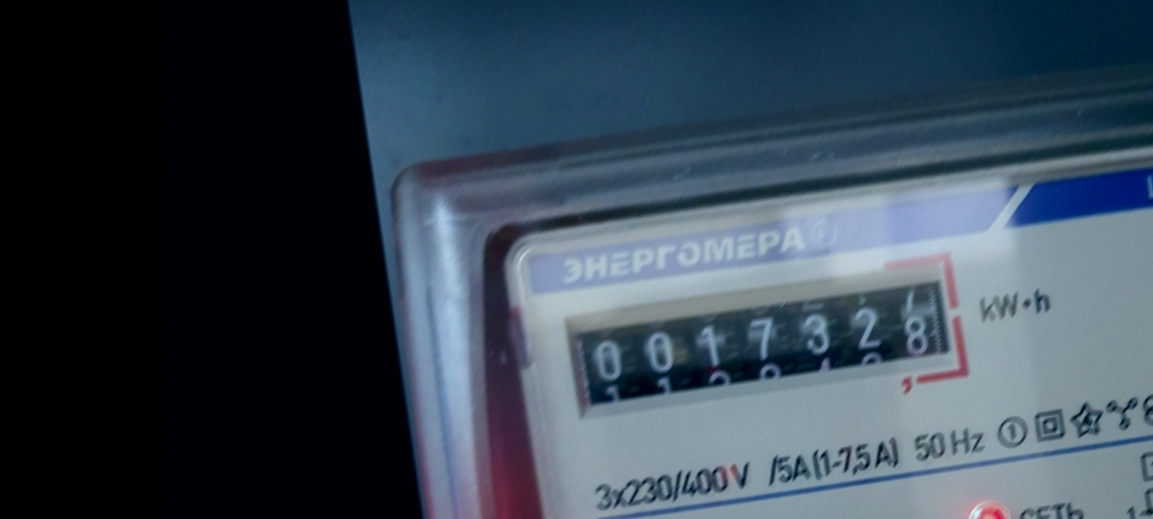0: (589, 337, 627, 385), (642, 327, 677, 376)
1: (696, 321, 724, 370)
2: (848, 304, 883, 352)
3: (800, 310, 833, 357)
7: (746, 315, 779, 364)
8: (899, 313, 930, 358)
screen: (553, 253, 978, 439)
